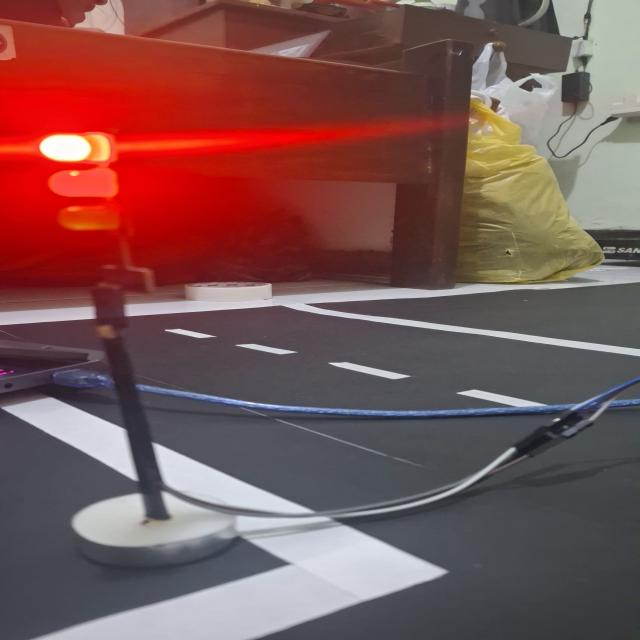Lampu Merah: (34, 130, 129, 235)
